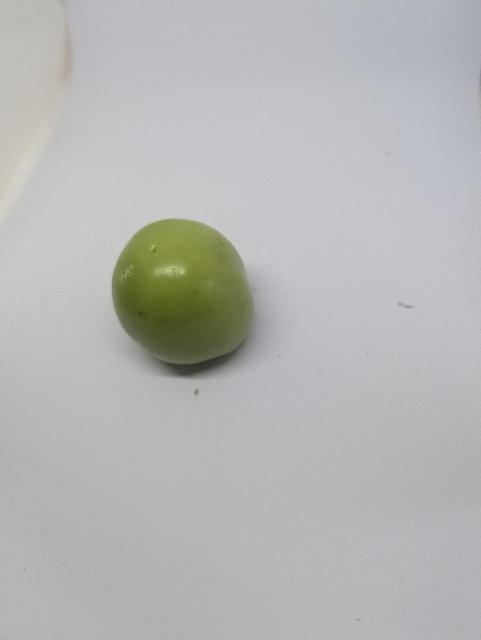green: (104, 209, 269, 387)
